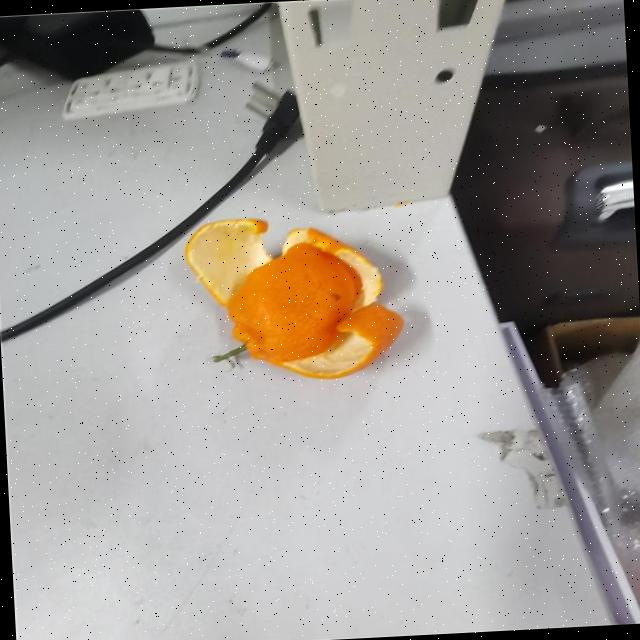orange-peel: (182, 208, 408, 388)
